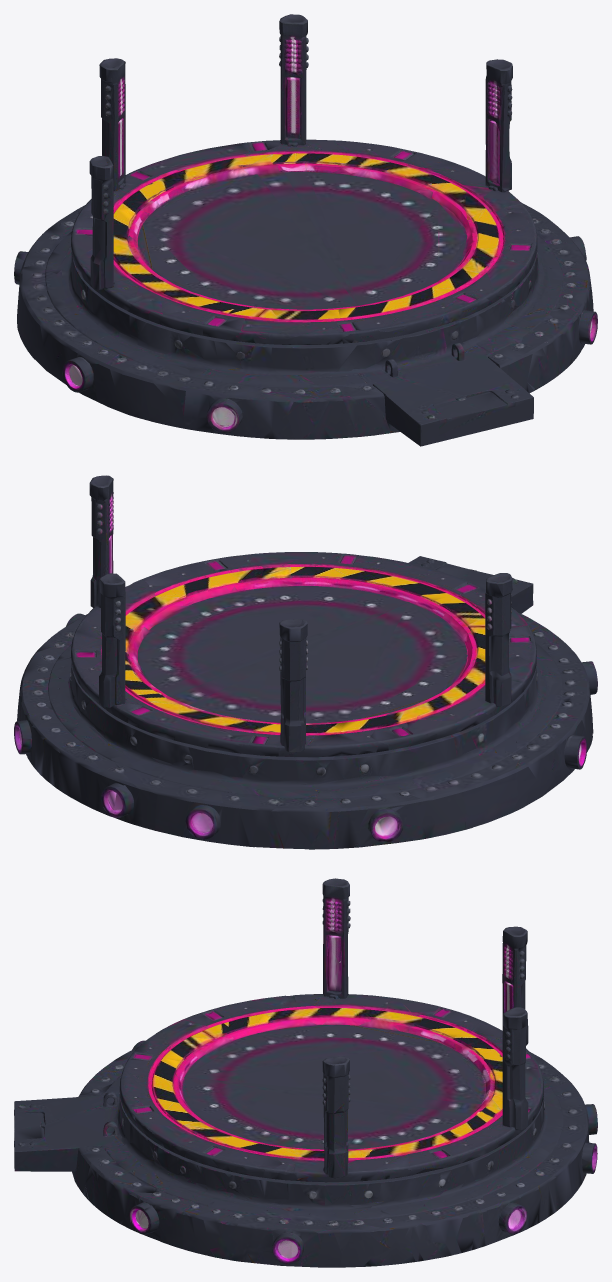
Rendered from launch-pad.glb.
3 views of the same model, one above another, from view 1: azimuth 30°, elevation 25°; view 2: azimuth 150°, elevation 25°; view 3: azimuth 270°, elevation 25° (orthographic). The views are drawn at different scales.
Bounding box in the file's own units: 1.77 × 0.6667 × 1.9.
1 material, 1 textured.
